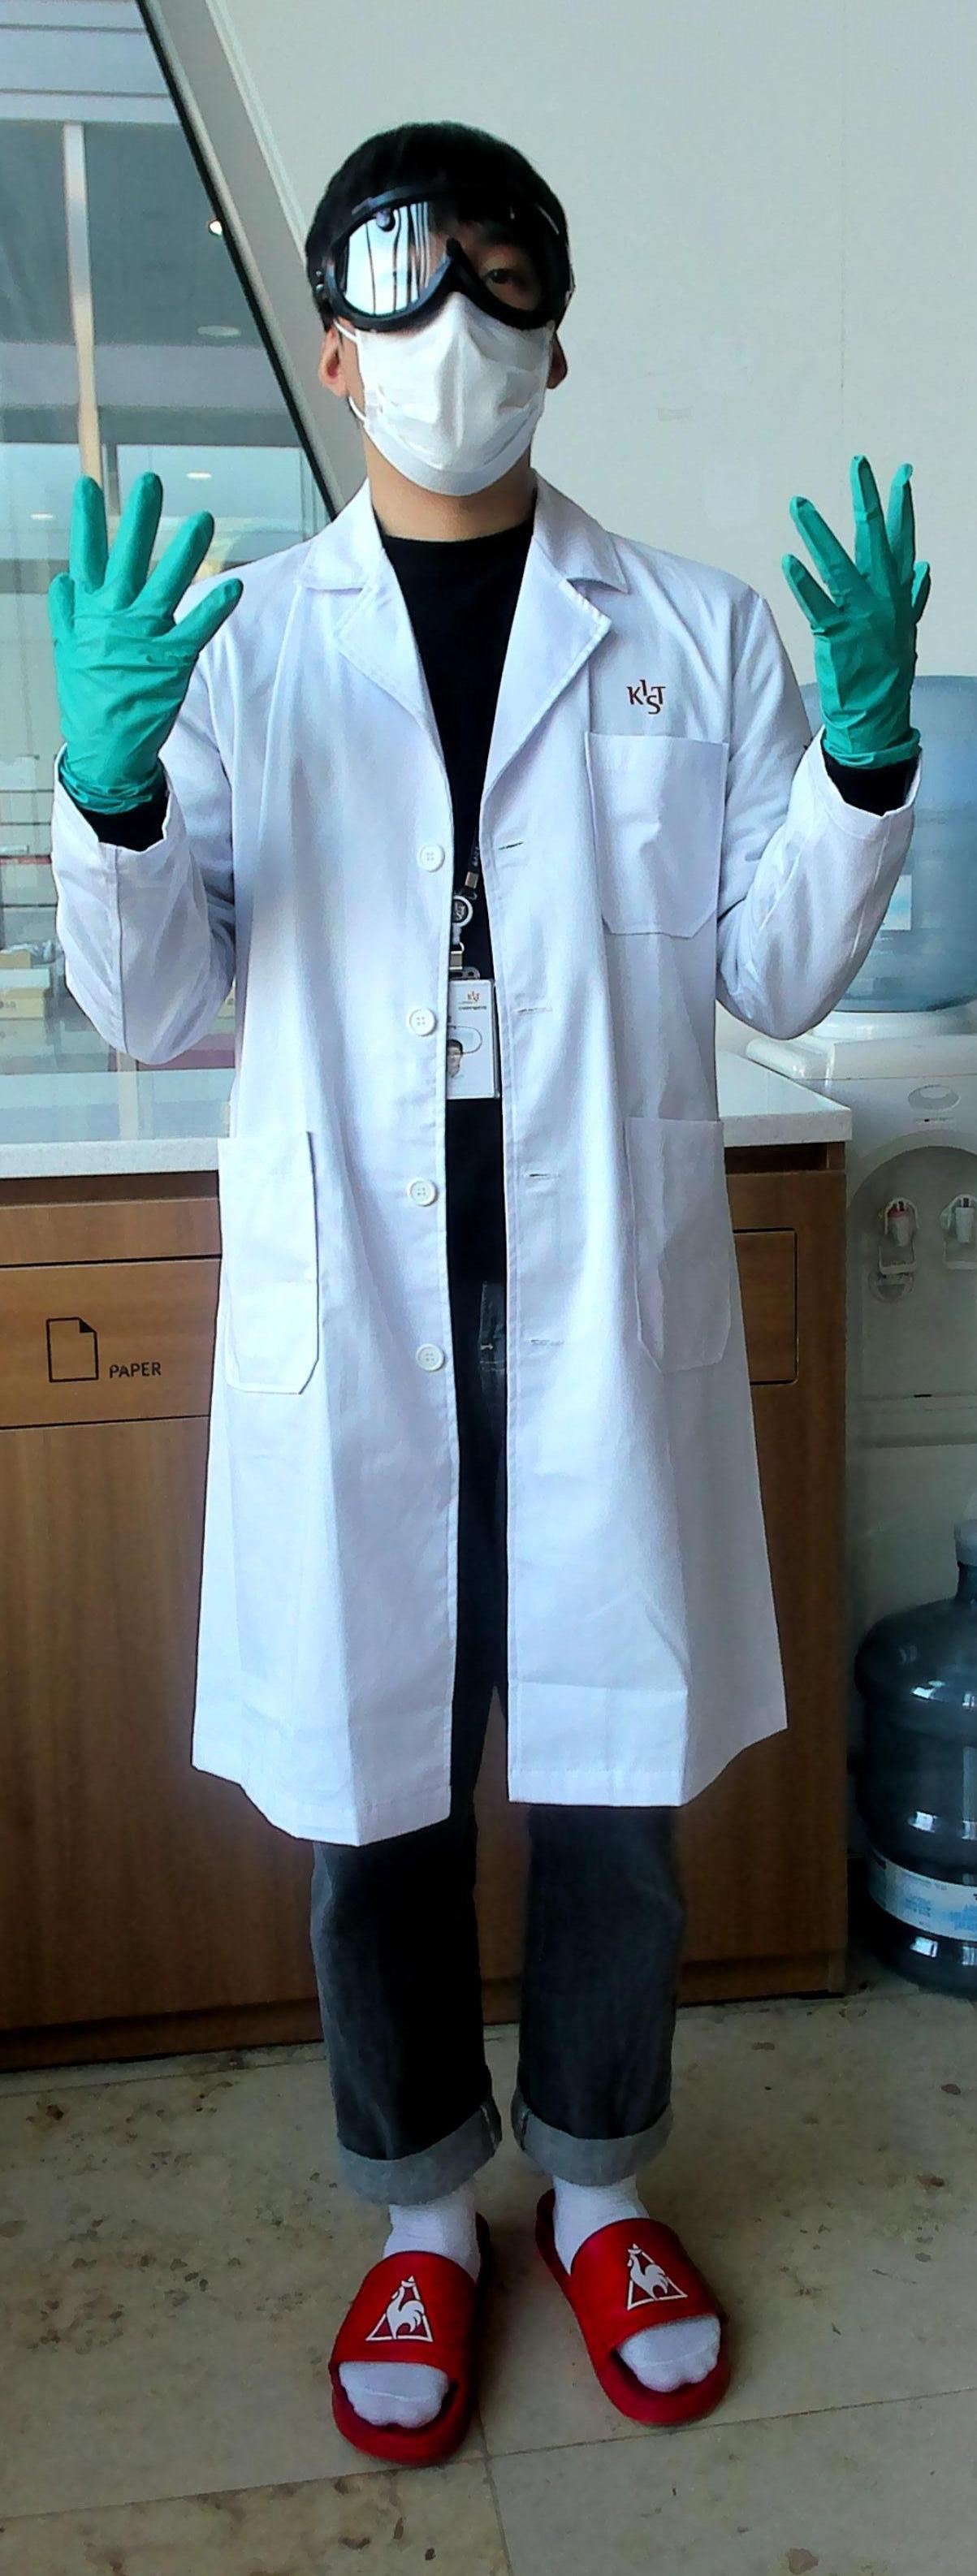lab_coat: (238, 590, 749, 1750)
